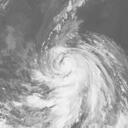cyclone: (32, 32, 110, 102)
